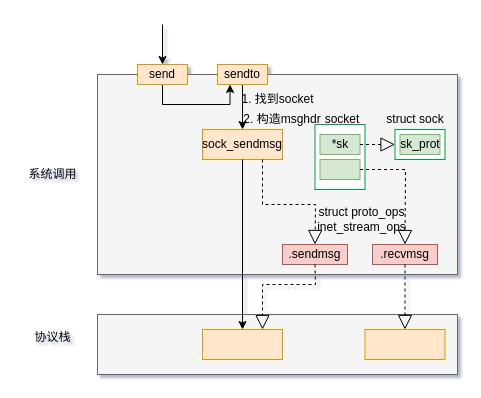
The diagram is 481 pixels wide and 398 high, and some of its shapes have lost their labels. Each missing label, with the centre of its shape:
"*ops" belongs at (x=339, y=169).
"inet_recvmsg" belongs at (x=404, y=344).
"inet_sendmsg" belongs at (x=242, y=344).
